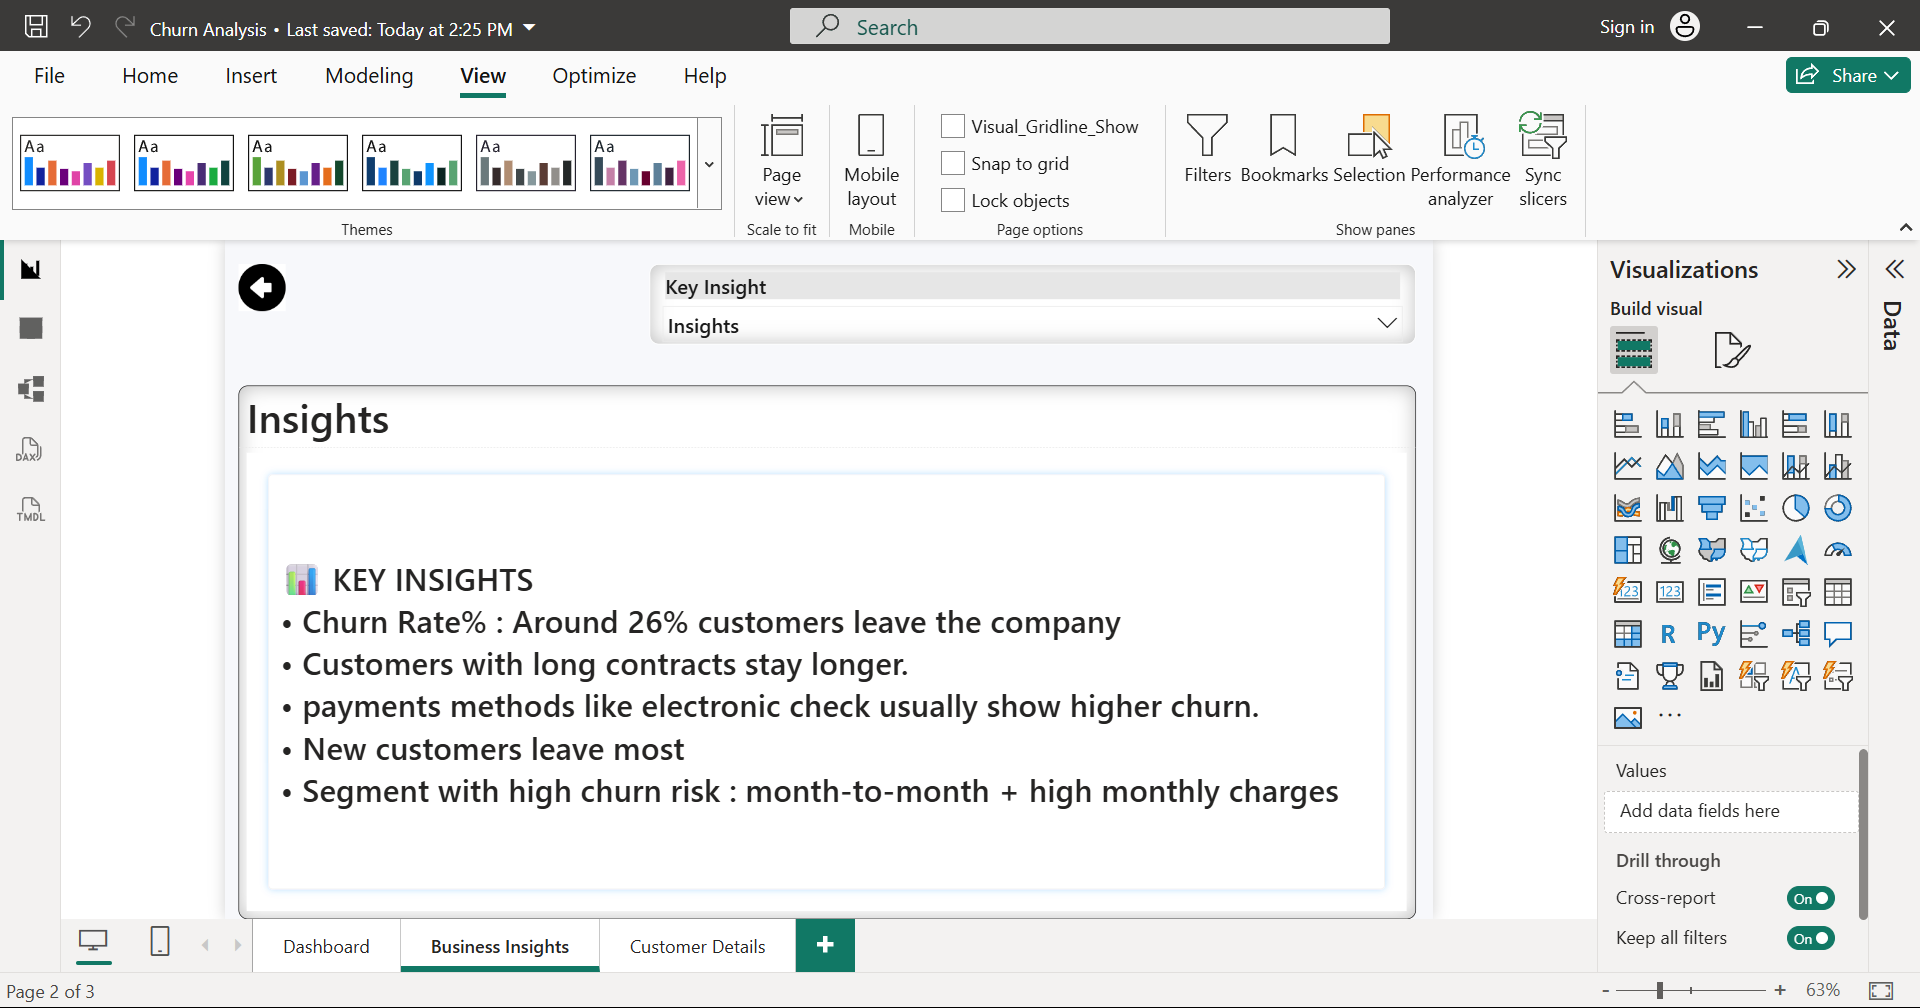

The page's visual inventory and layout, read from the dashboard file:
{"tool":"powerbi","page":{"name":"Business Insights ","canvas":[1280,720],"ordinal":1},"visuals":[{"type":"cardVisual","fields":{"Data":["Nav Selector.Insight Display"]},"box":[14.3,154.3,1248.6,566.3],"z":0},{"type":"slicer","fields":{"Values":["Nav Selector.Section"]},"box":[450,25,812.5,85],"z":1000},{"type":"image","box":[14.3,25.4,50,50],"z":2001}]}

Visuals, with their boxes on the page's 1280x720 design canvas (x1, y1, x2, y2). These are canvas units, not pixel positions in the 1920x1008 screenshot, which may show the page scaled, cropped or inside an application window:
cardVisual - Nav Selector.Insight Display: l=14, t=154, r=1263, b=721
slicer - Nav Selector.Section: l=450, t=25, r=1262, b=110
image: l=14, t=25, r=64, b=75
